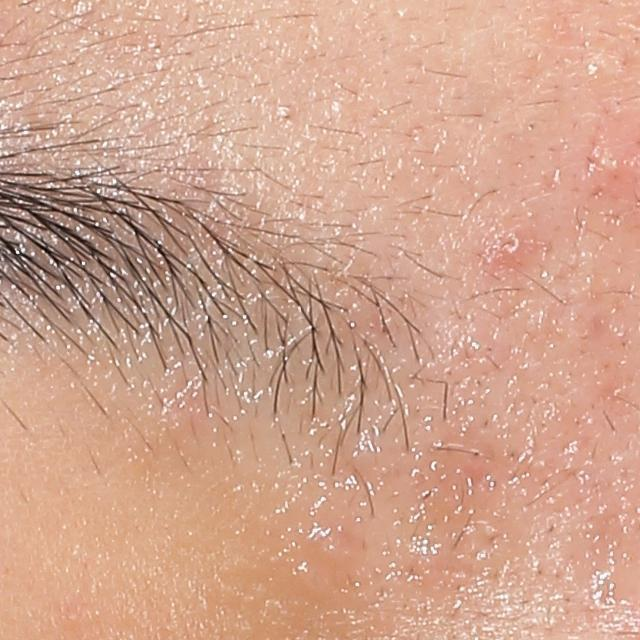papule: (490, 225, 531, 269)
